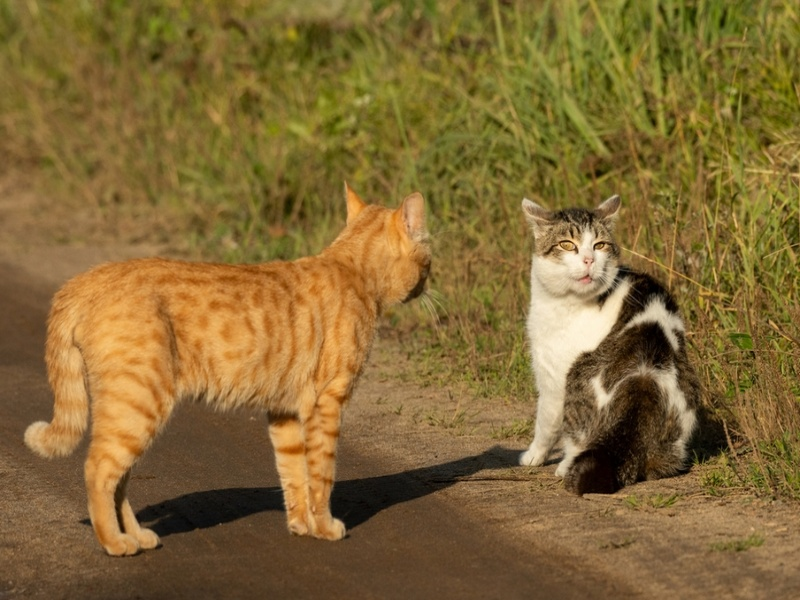cat: (32, 181, 433, 555), (511, 188, 704, 494)
